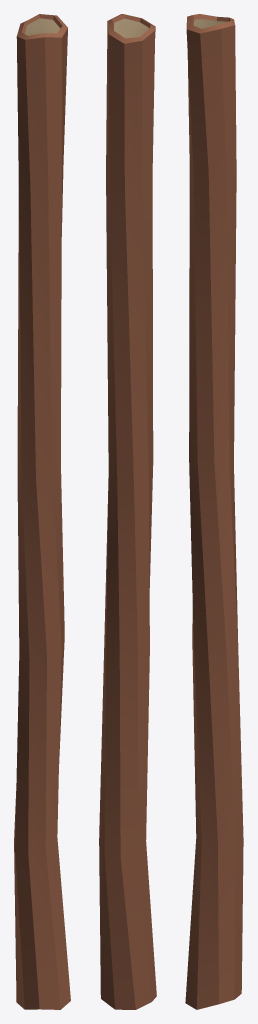
Rendered from LightWoodPoleVlargeWoodPole1.fbx.
The picture shows the model from 3 angles, left to right: view 1: azimuth 90°, elevation 25°; view 2: azimuth 150°, elevation 25°; view 3: azimuth 330°, elevation 25°; orthographic projection.
Parts seen in each view (by area): view 1: LightWoodPoleVlargeWoodPole1; view 2: LightWoodPoleVlargeWoodPole1; view 3: LightWoodPoleVlargeWoodPole1.
Boxes of the visible parts, x1=… form: LightWoodPoleVlargeWoodPole1: x1=14, y1=14, x2=70, y2=1009; LightWoodPoleVlargeWoodPole1: x1=99, y1=14, x2=156, y2=1009; LightWoodPoleVlargeWoodPole1: x1=185, y1=14, x2=243, y2=1009.
Bounding box in the file's own units: 50.55 × 1008 × 53.
